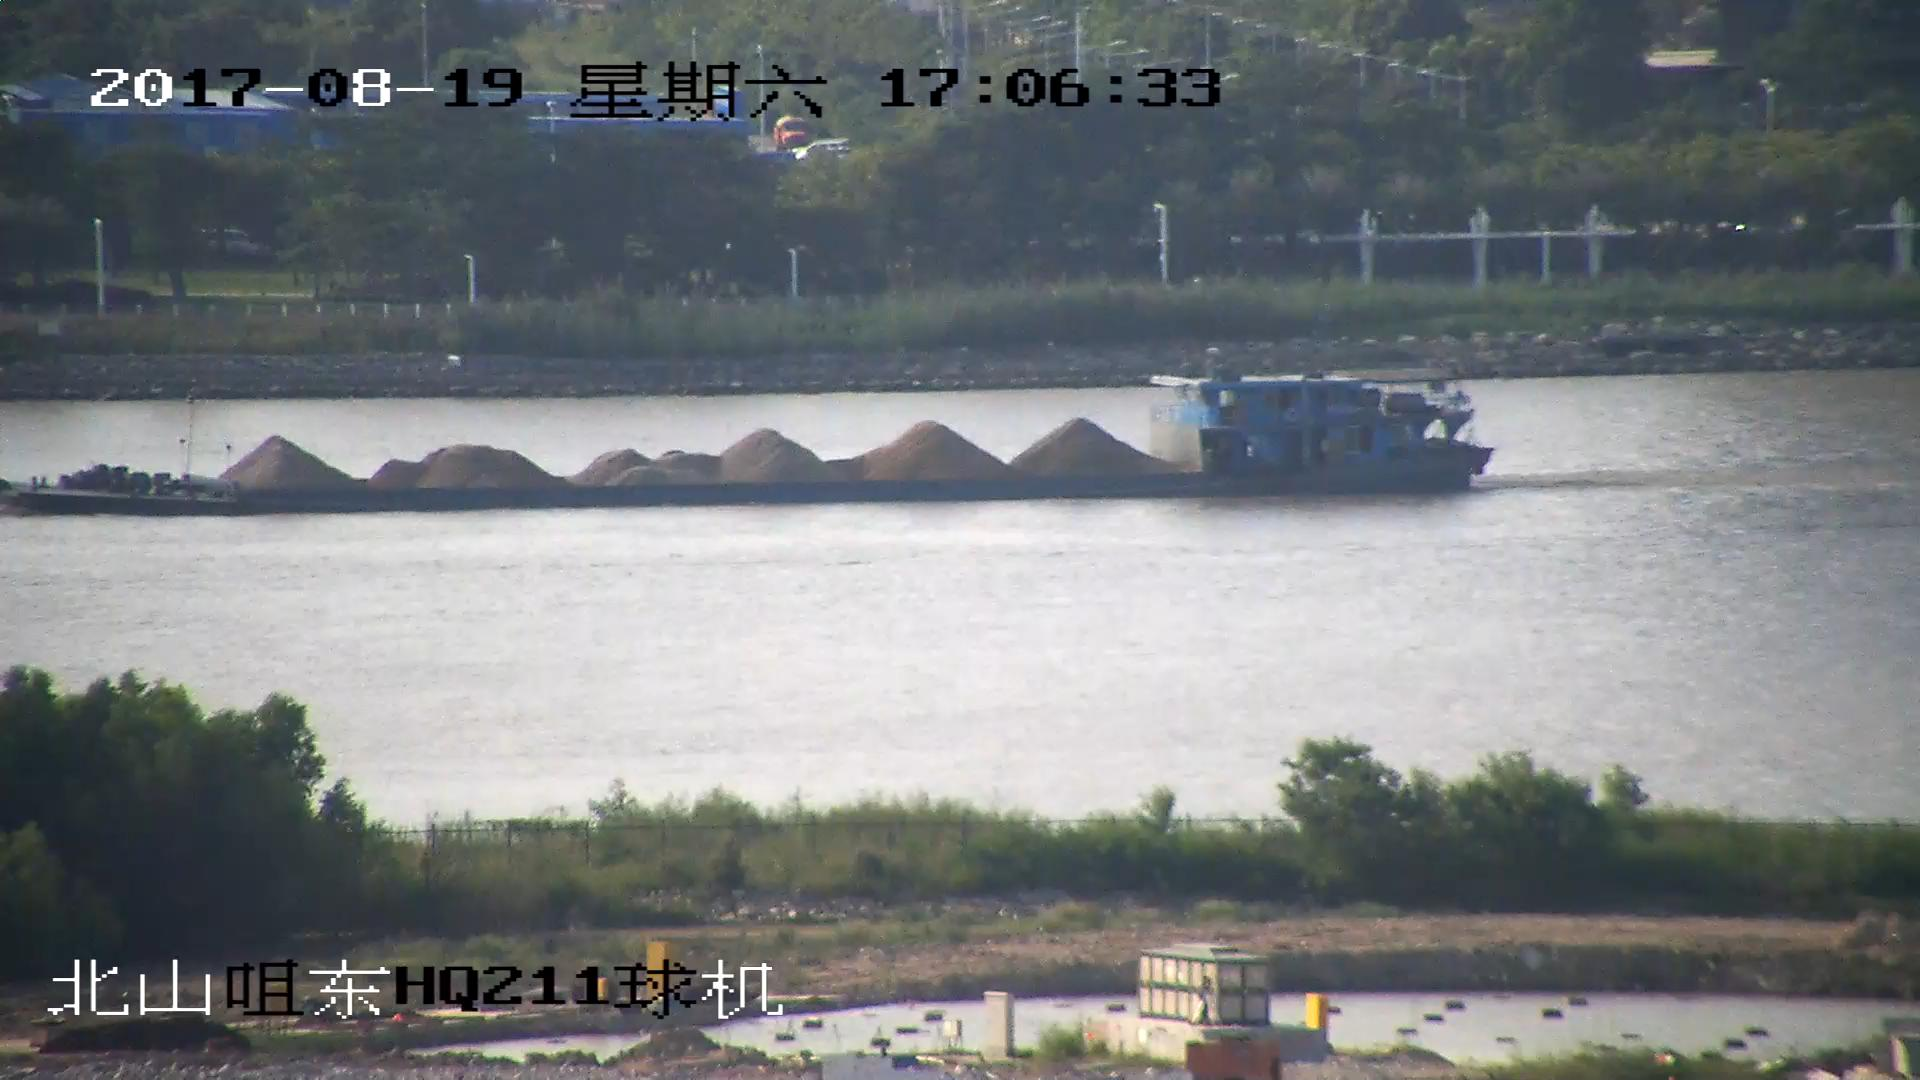ore carrier: (1, 351, 1492, 518)
